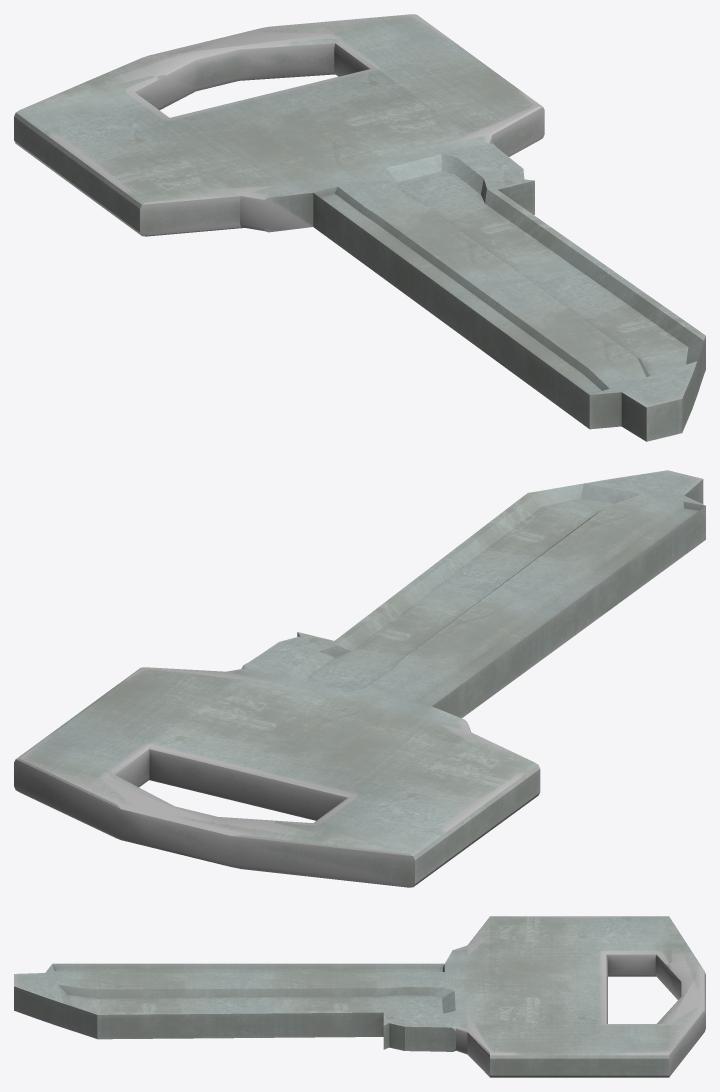
The model's file is Key 1.fbx.
3 renders of one model, top to bottom at view 1: azimuth 30°, elevation 25°; view 2: azimuth 150°, elevation 25°; view 3: azimuth 270°, elevation 25°, orthographic. The views are drawn at different scales.
Visible parts, largest first — view 1: Key; view 2: Key; view 3: Key.
Part boxes in pixels (bbox=[...]): Key: bbox=[14, 14, 705, 441]; Key: bbox=[14, 470, 705, 887]; Key: bbox=[14, 916, 705, 1077].
Size of the model in its own units: 96.54 by 7.82 by 201.
Materials: 1 (1 with a texture image).
